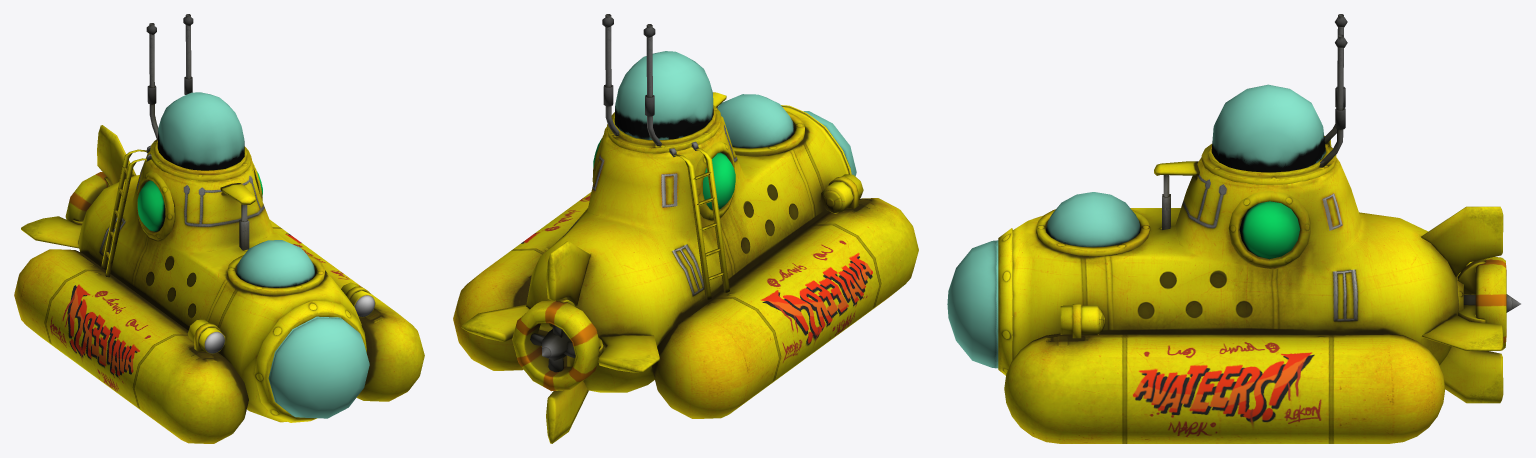
The model's file is submarin.obj.
3 renders of one model, left to right at view 1: azimuth 30°, elevation 25°; view 2: azimuth 150°, elevation 25°; view 3: azimuth 270°, elevation 25°, orthographic. The views are drawn at different scales.
Parts seen in each view (by area): view 1: obj1, obj2; view 2: obj1, obj2; view 3: obj1, obj2.
Boxes of the visible parts, bbox=[...] form: obj1: bbox=[14, 14, 424, 443]; obj2: bbox=[157, 92, 369, 418]; obj1: bbox=[453, 14, 918, 443]; obj2: bbox=[614, 51, 856, 176]; obj1: bbox=[998, 14, 1520, 443]; obj2: bbox=[947, 84, 1325, 368].
Size of the model in its own units: 2.36 by 2.84 by 3.91.
Materials: 2 (2 with a texture image).
